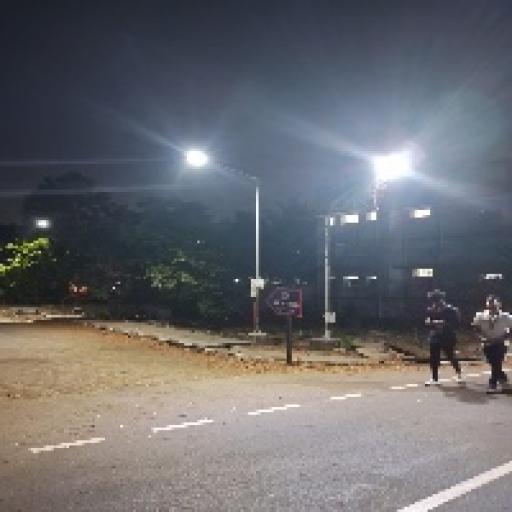Working: (174, 147, 220, 173), (32, 216, 56, 232)
